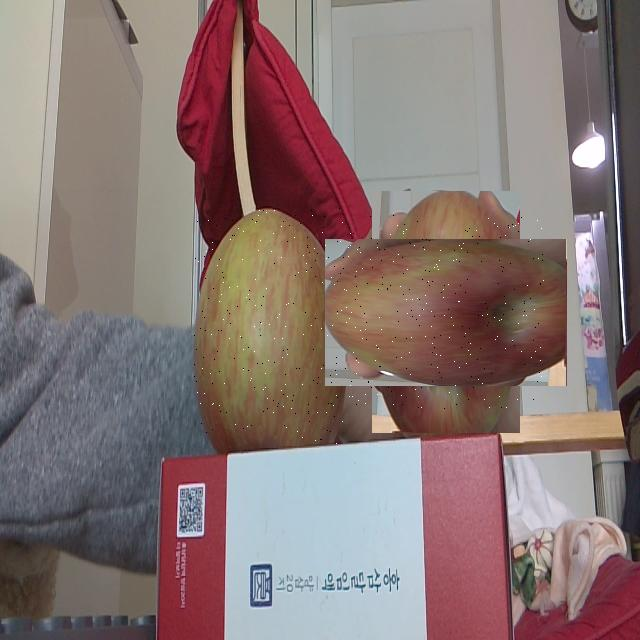apple: (348, 215, 544, 410), (194, 208, 347, 444)
